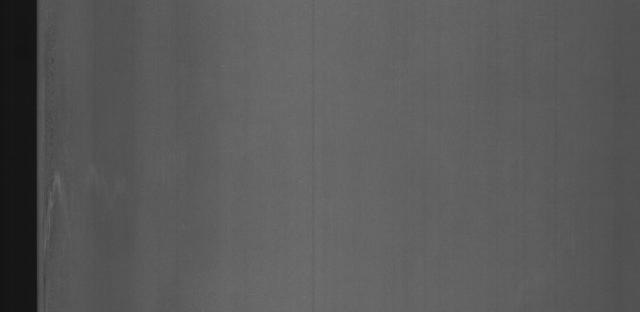silk_spot: (40, 84, 106, 256)
